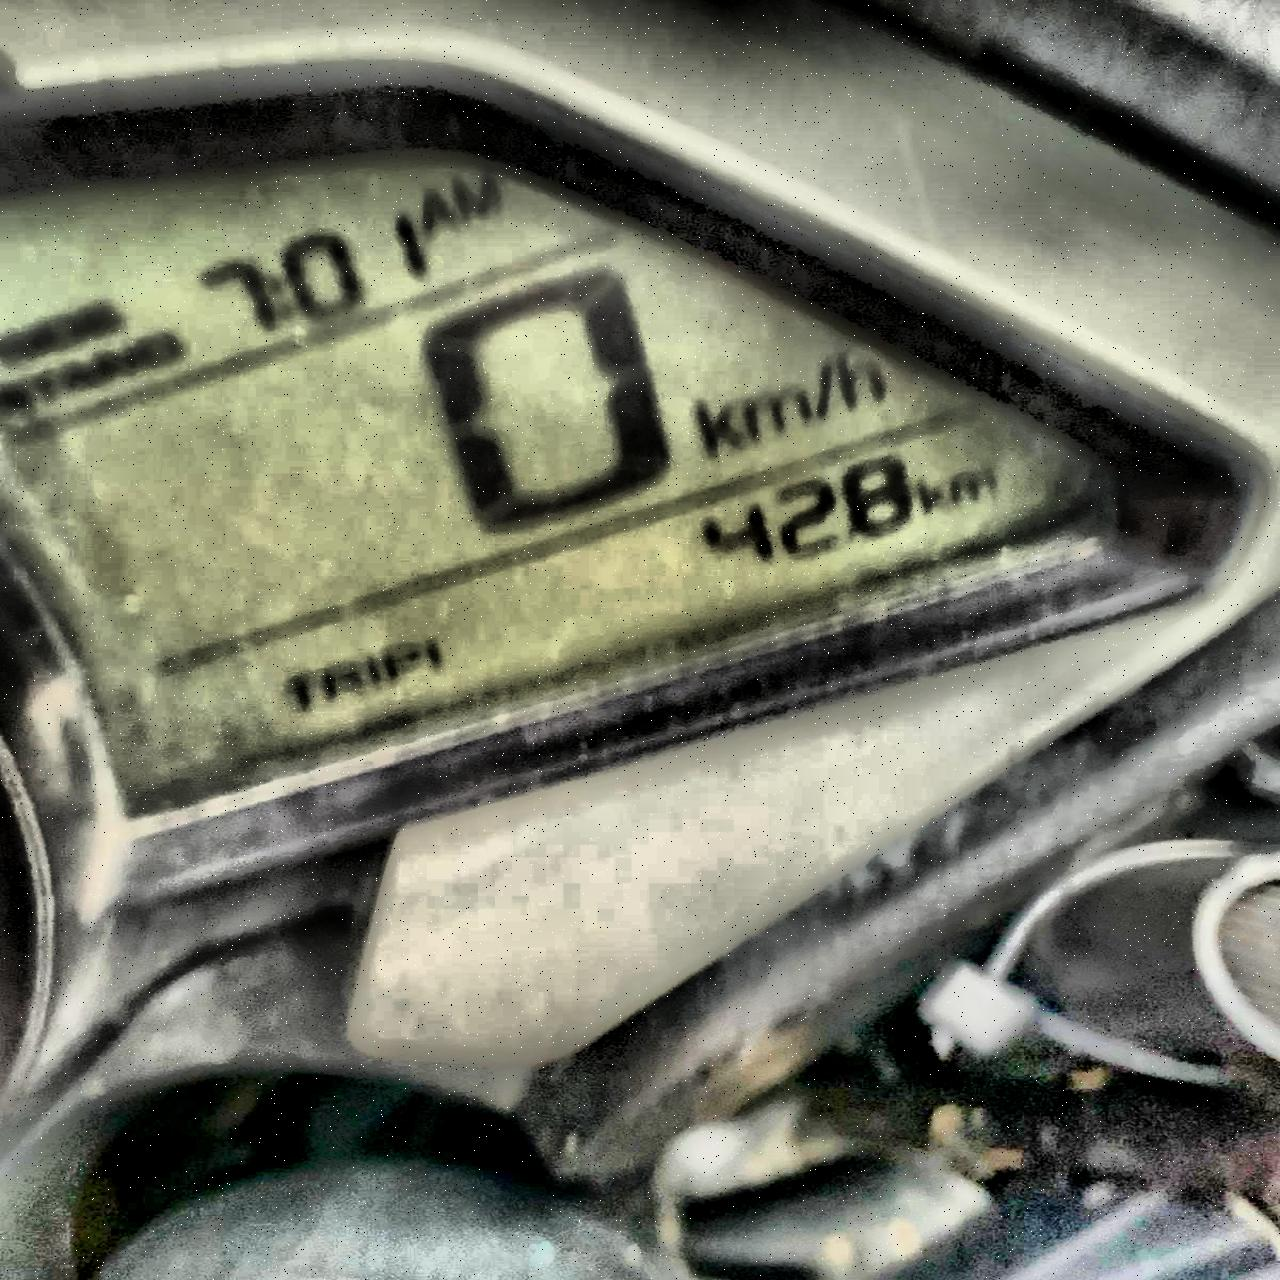-: (836, 526, 867, 552)
0: (425, 274, 663, 510), (288, 230, 363, 321)
1: (389, 216, 429, 285), (423, 632, 447, 666)
2: (776, 483, 837, 560)
4: (700, 498, 769, 571)
7: (199, 256, 274, 332)
8: (844, 457, 913, 532)
X: (745, 383, 810, 438), (837, 342, 886, 410), (692, 389, 740, 454), (408, 191, 467, 236), (450, 170, 501, 216), (279, 666, 316, 720), (324, 659, 360, 704), (812, 355, 836, 422), (384, 639, 418, 683), (952, 470, 999, 502), (266, 273, 295, 319), (919, 477, 949, 517), (366, 651, 384, 701)
odometer: (0, 123, 1193, 831)
